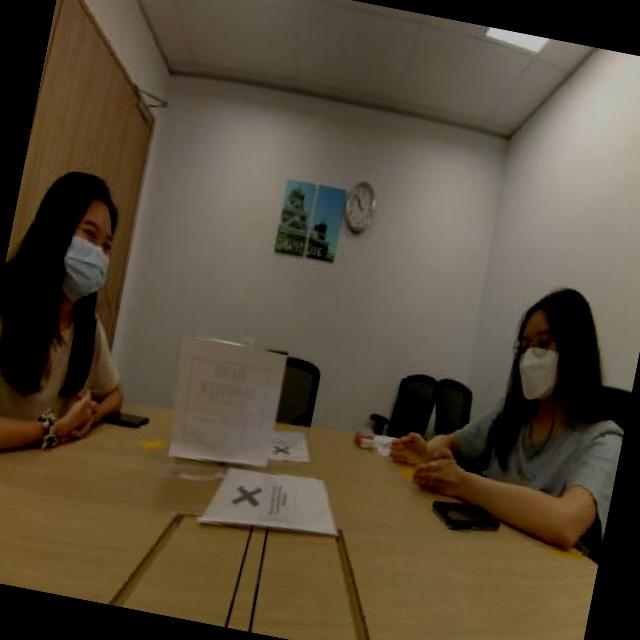Person: (413, 243, 640, 506), (0, 129, 165, 429)
